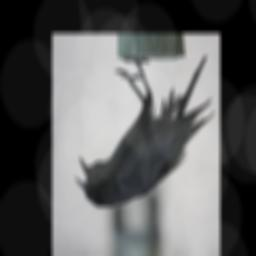Crow: (75, 53, 215, 209)
